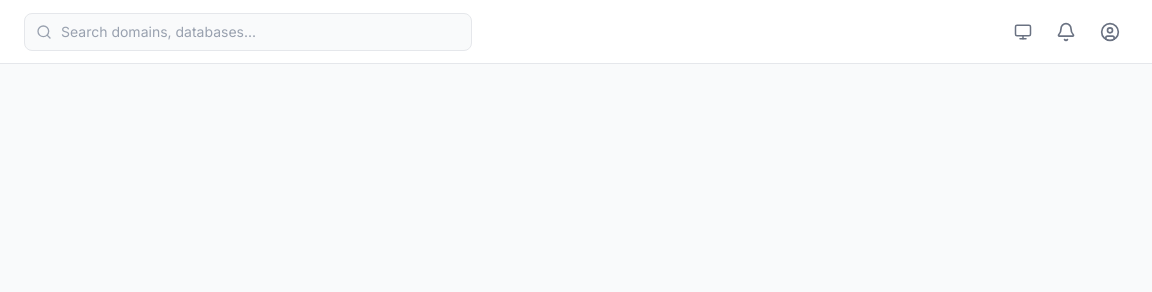
Scenario: Client Header user menu › opens dropdown on click and shows user name and email
Step 1. Click the button with test id "user-menu-button" → (1110, 32), box x1=1092 y1=14 x2=1128 y2=50
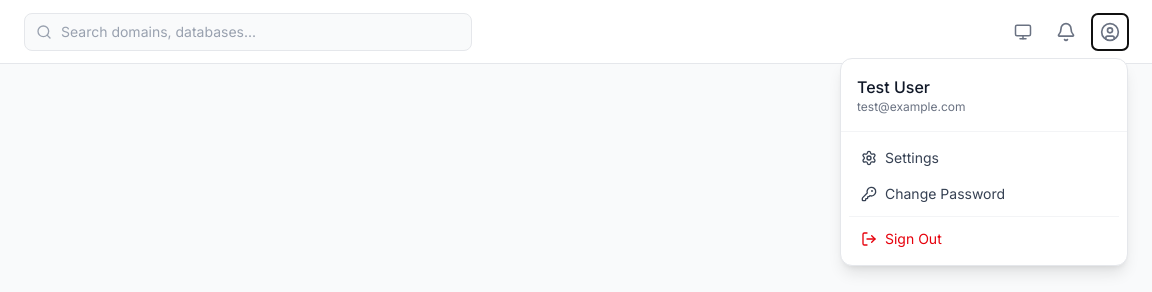
Check: the element with test id "user-menu-dropdown" is shown, box x1=840 y1=58 x2=1128 y2=266
Check: the text with test id "user-menu-name" reads "Test User", box x1=857 y1=76 x2=930 y2=96
Check: the text with test id "user-menu-email" reads "test@example.com", box x1=857 y1=98 x2=966 y2=114
